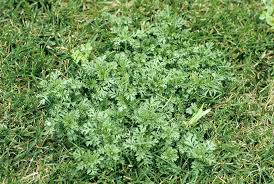pineple: (90, 71, 188, 146)
